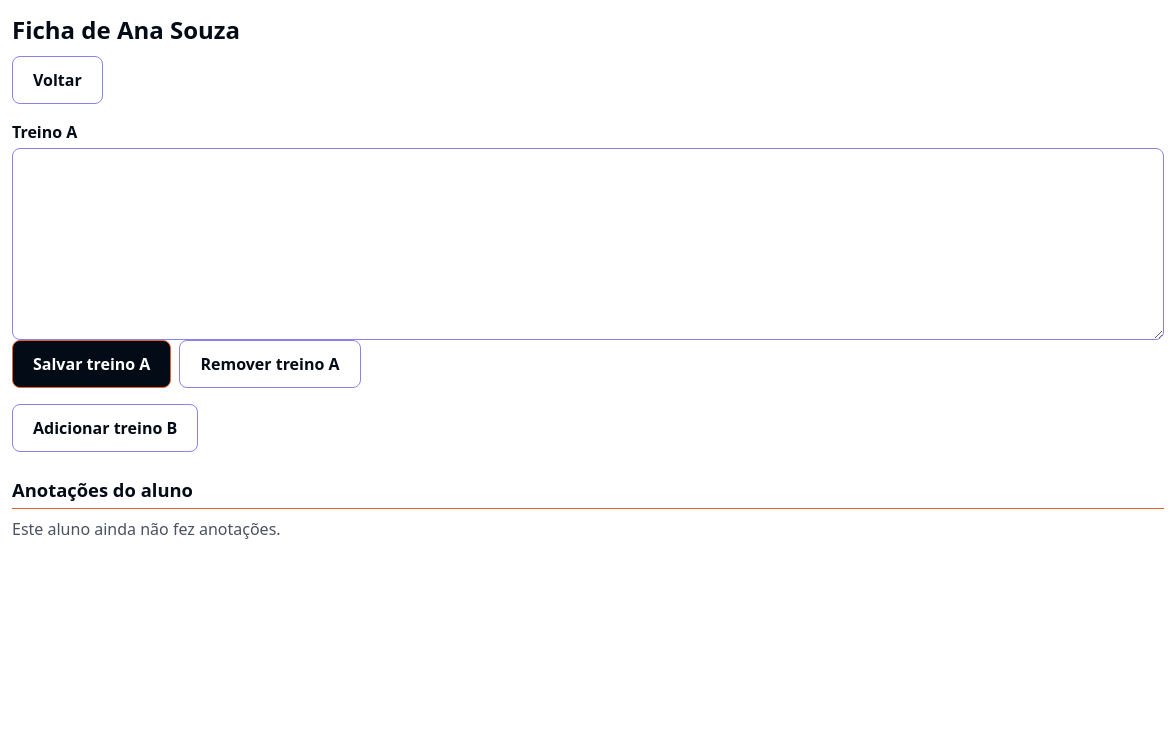
Test: FichaAluno › trata como erro o remover que não afeta nenhuma linha
Click the button "Remover treino A". click: click(270, 364)
box: [179,340,361,388]
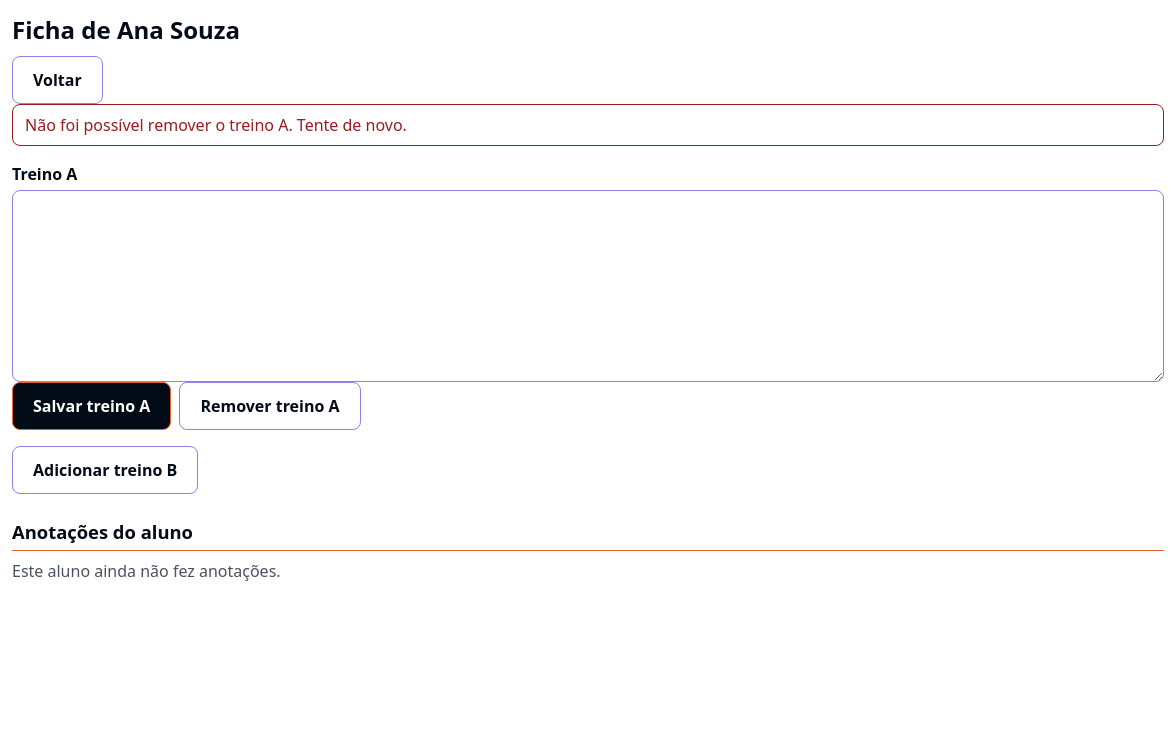
Check: the text box labelled "Treino A" is shown, box [12,190,1164,382]
Check: the message shows "Não foi possível remover", box [25,114,407,136]
